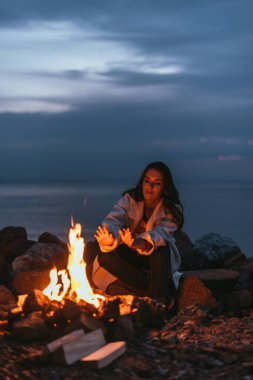fire: (51, 222, 100, 315)
